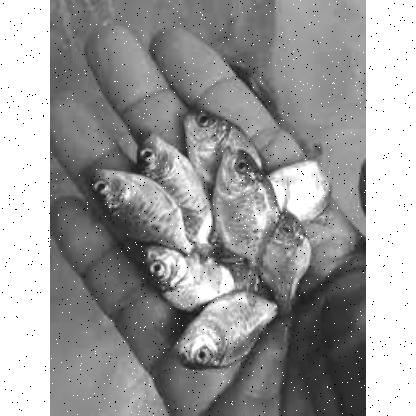ikan-pacu: (86, 166, 188, 252), (170, 290, 276, 366), (213, 147, 277, 253)
